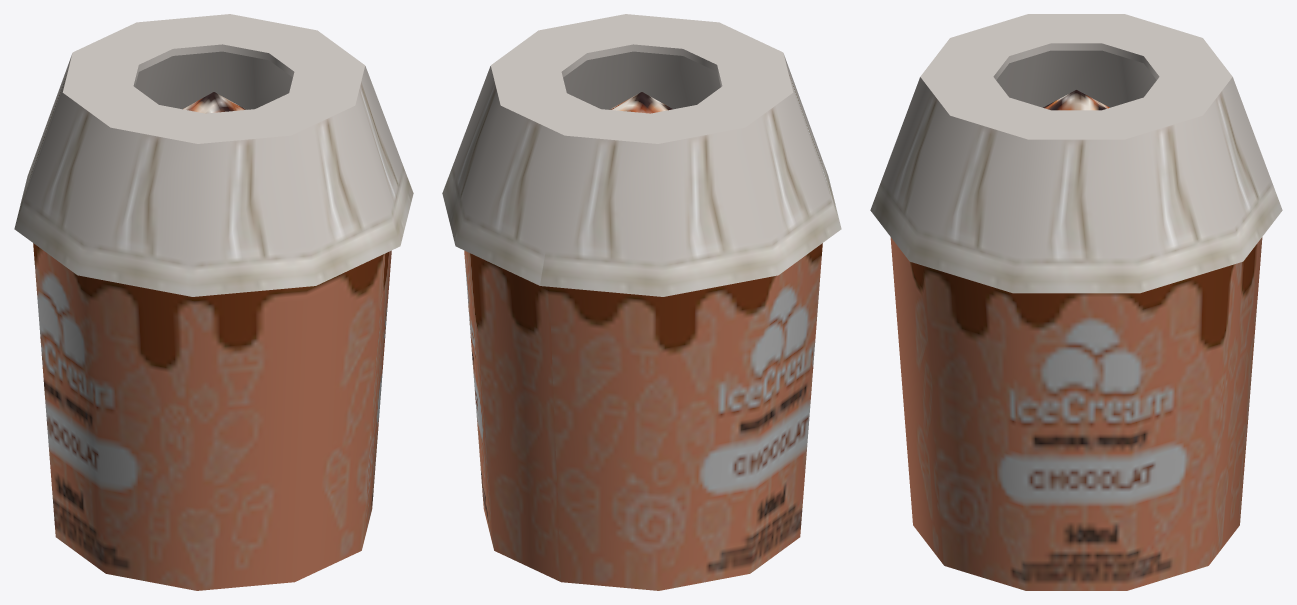
Rendered from pack_icecream.FBX.
The picture shows the model from 3 angles, left to right: view 1: azimuth 30°, elevation 25°; view 2: azimuth 150°, elevation 25°; view 3: azimuth 270°, elevation 25°; orthographic projection.
Visible parts, largest first — view 1: pack_icecream_LOD00; view 2: pack_icecream_LOD00; view 3: pack_icecream_LOD00.
Part boxes in pixels (x1,y1,x2,y2): pack_icecream_LOD00: (14, 14, 413, 590); pack_icecream_LOD00: (442, 14, 841, 590); pack_icecream_LOD00: (870, 14, 1282, 590).
Size of what is drawn, in the model's own units: 3.27 by 4.12 by 3.44.
